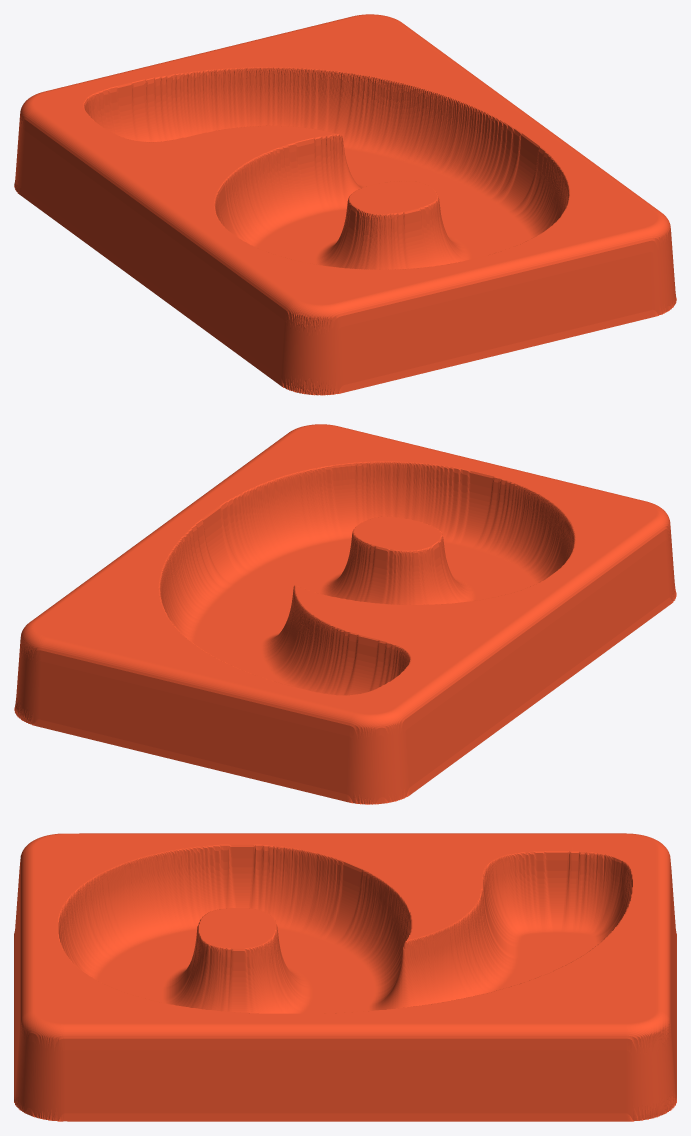
File: mold.glb
3 views of the same model, one above another, from view 1: azimuth 30°, elevation 25°; view 2: azimuth 150°, elevation 25°; view 3: azimuth 270°, elevation 25° (orthographic). The views are drawn at different scales.
Visible parts, largest first — view 1: geometry_0; view 2: geometry_0; view 3: geometry_0.
Boxes of the visible parts, x1,y1,x2,y2 form: geometry_0: (14, 14, 676, 395); geometry_0: (14, 424, 676, 804); geometry_0: (14, 833, 676, 1121).
Bounding box in the file's own units: 0.0866 × 0.0175 × 0.1178.
